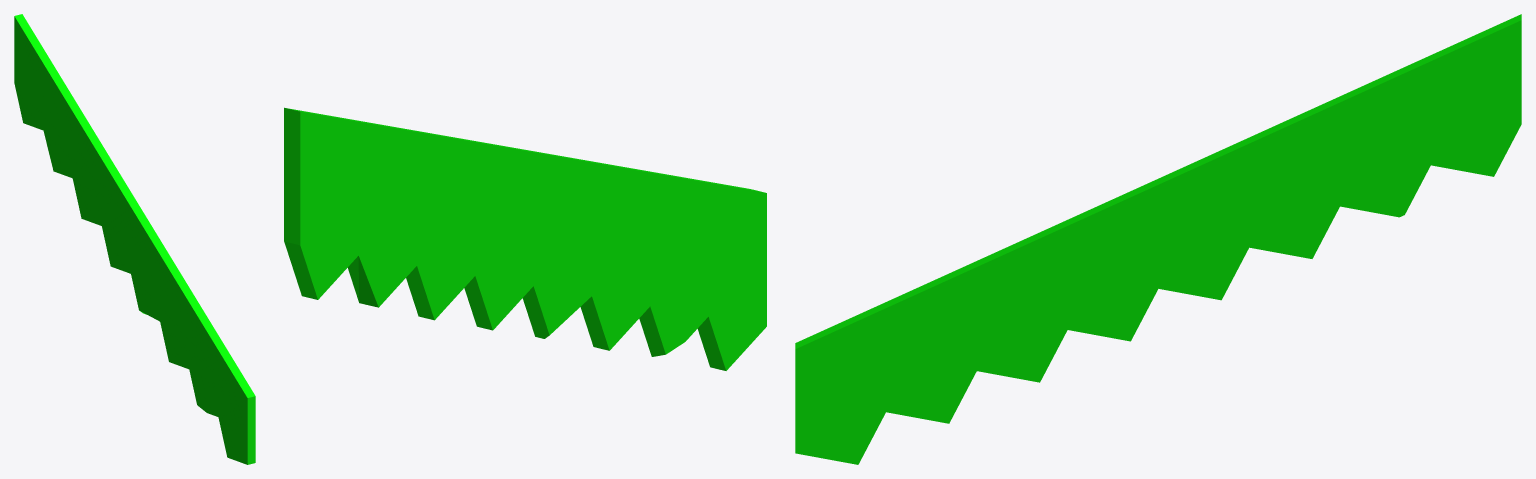
File: SM_Roof_Moderate_1x2m_Decor_Fantasy.fbx
3 views of the same model, side by side, from view 1: azimuth 30°, elevation 25°; view 2: azimuth 150°, elevation 25°; view 3: azimuth 270°, elevation 25° (orthographic). The views are drawn at different scales.
Parts seen in each view (by area): view 1: roof-moderate-1x2m-decor-fantasy; view 2: roof-moderate-1x2m-decor-fantasy; view 3: roof-moderate-1x2m-decor-fantasy.
Part boxes in pixels (x1,y1,x2,y2): roof-moderate-1x2m-decor-fantasy: (14,14,255,464); roof-moderate-1x2m-decor-fantasy: (284,107,766,370); roof-moderate-1x2m-decor-fantasy: (795,14,1521,464).
Bounding box in the file's own units: 0.04 × 1.35 × 2.
